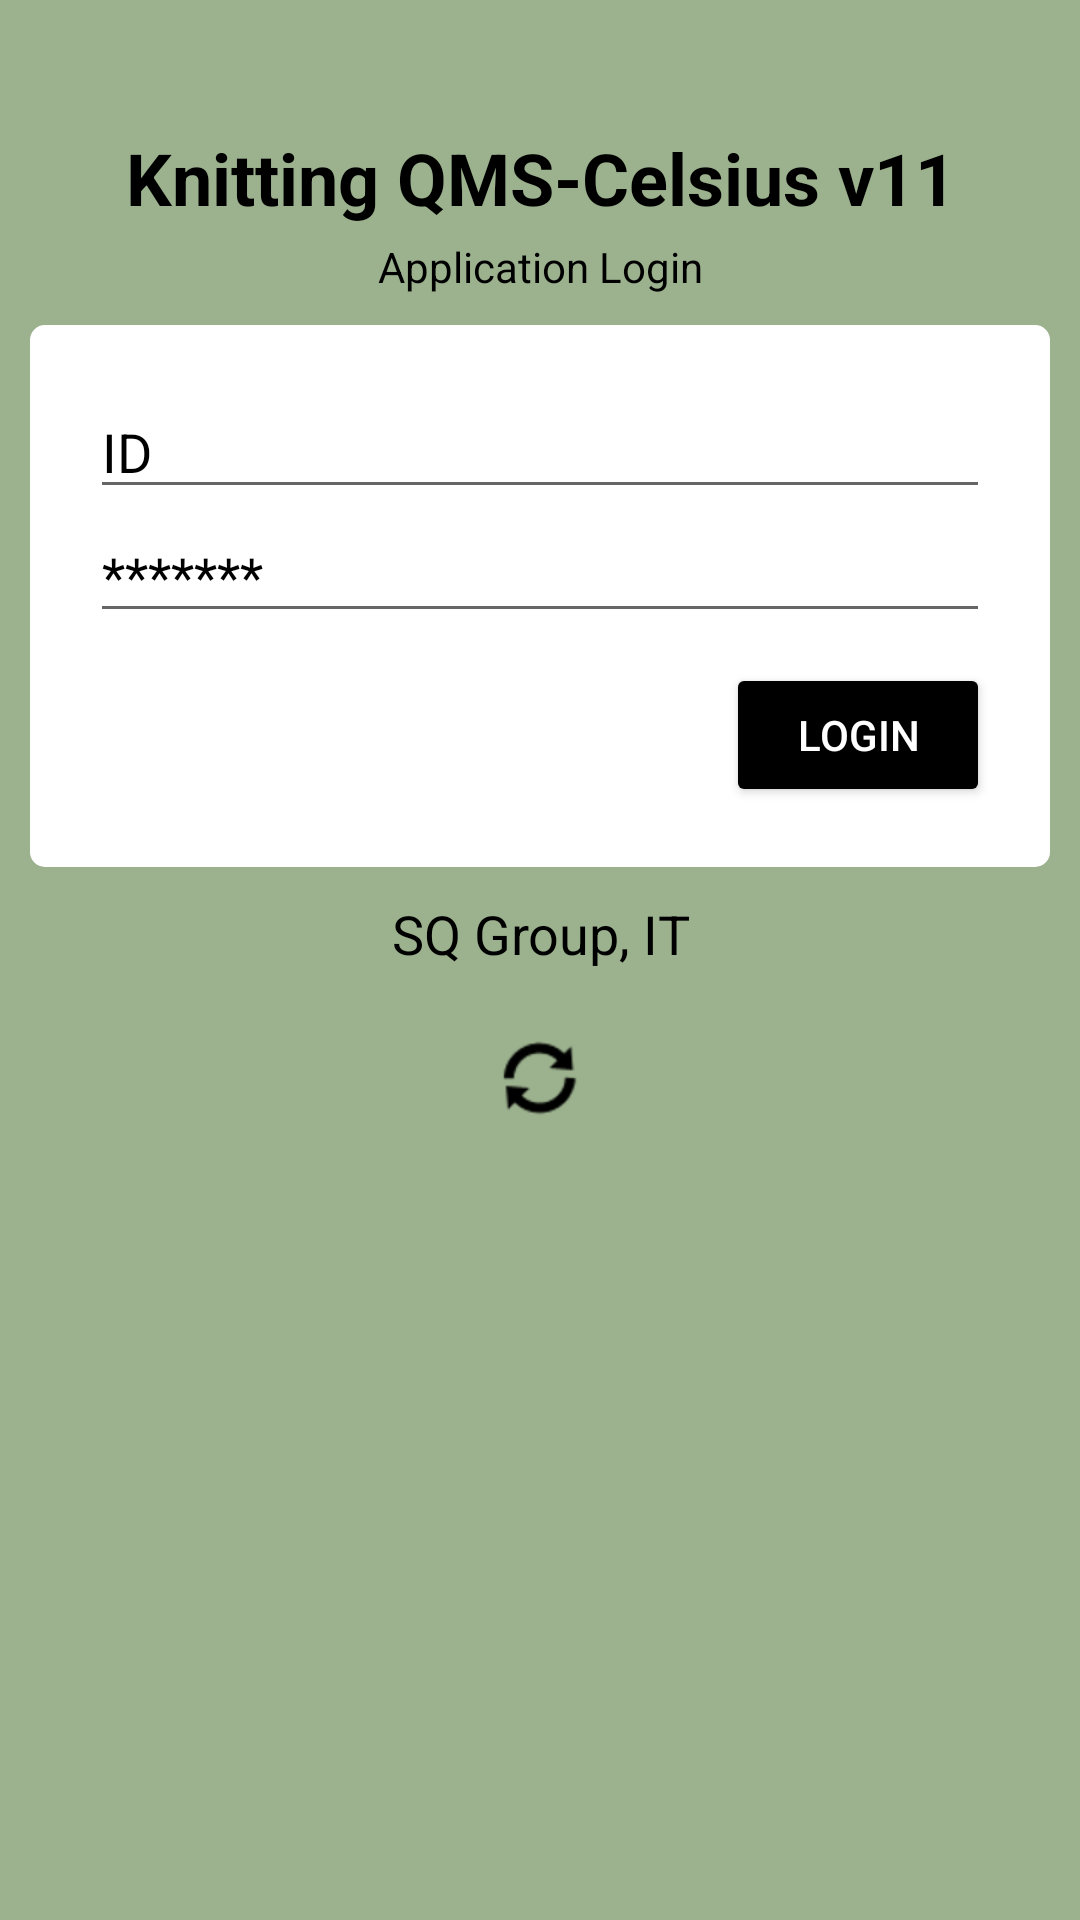

Named icons in this screenshot (1080 x 1920) and their bounding boxes, [x1, y1, x2, y2]:
popup sync: [503, 1042, 576, 1114]
